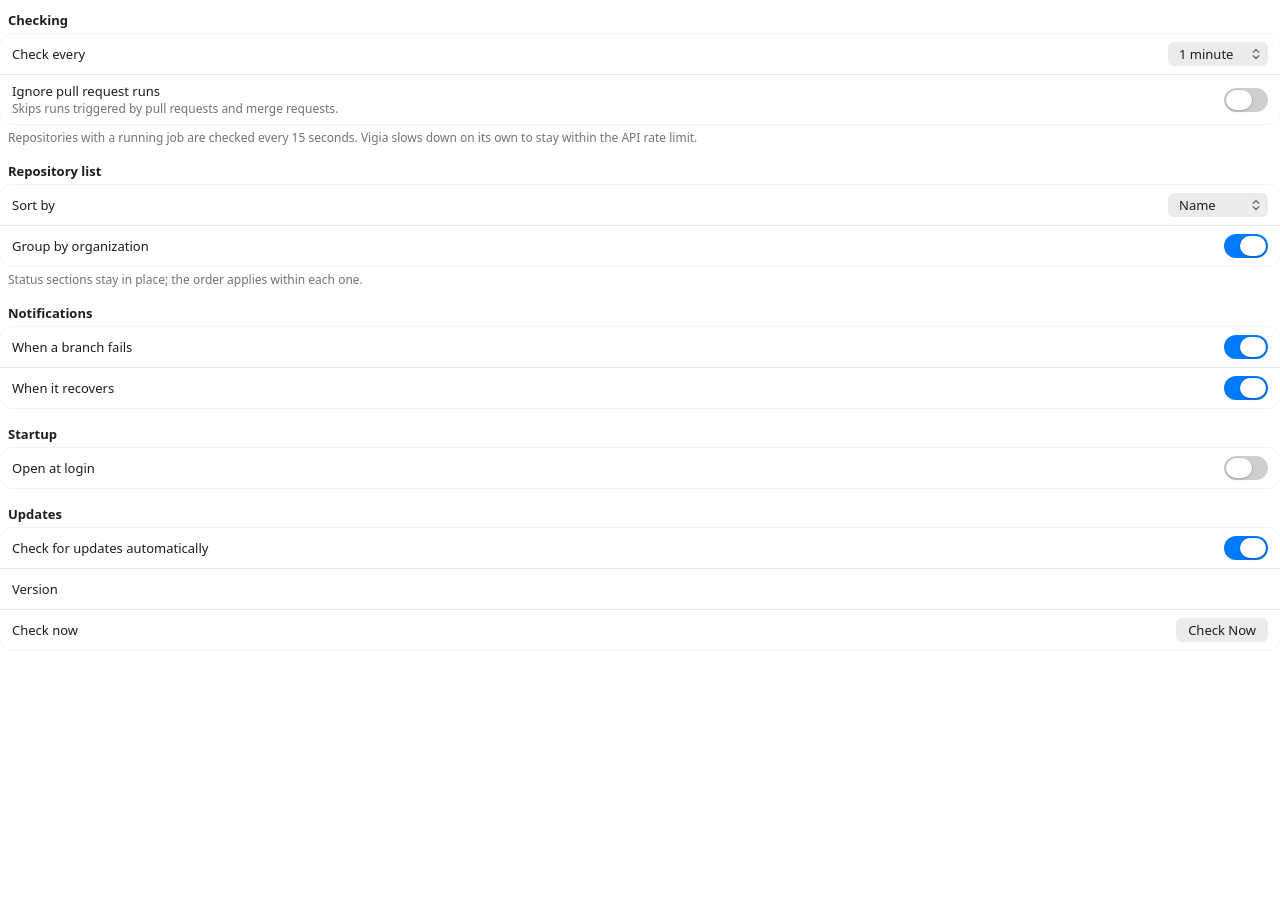
Test: general settings › Check Now › reports a failed install
The image size is (1280, 912).
Step 1. Click the button "Check Now" → x=1222, y=630, box left=1176, top=618, right=1268, bottom=642
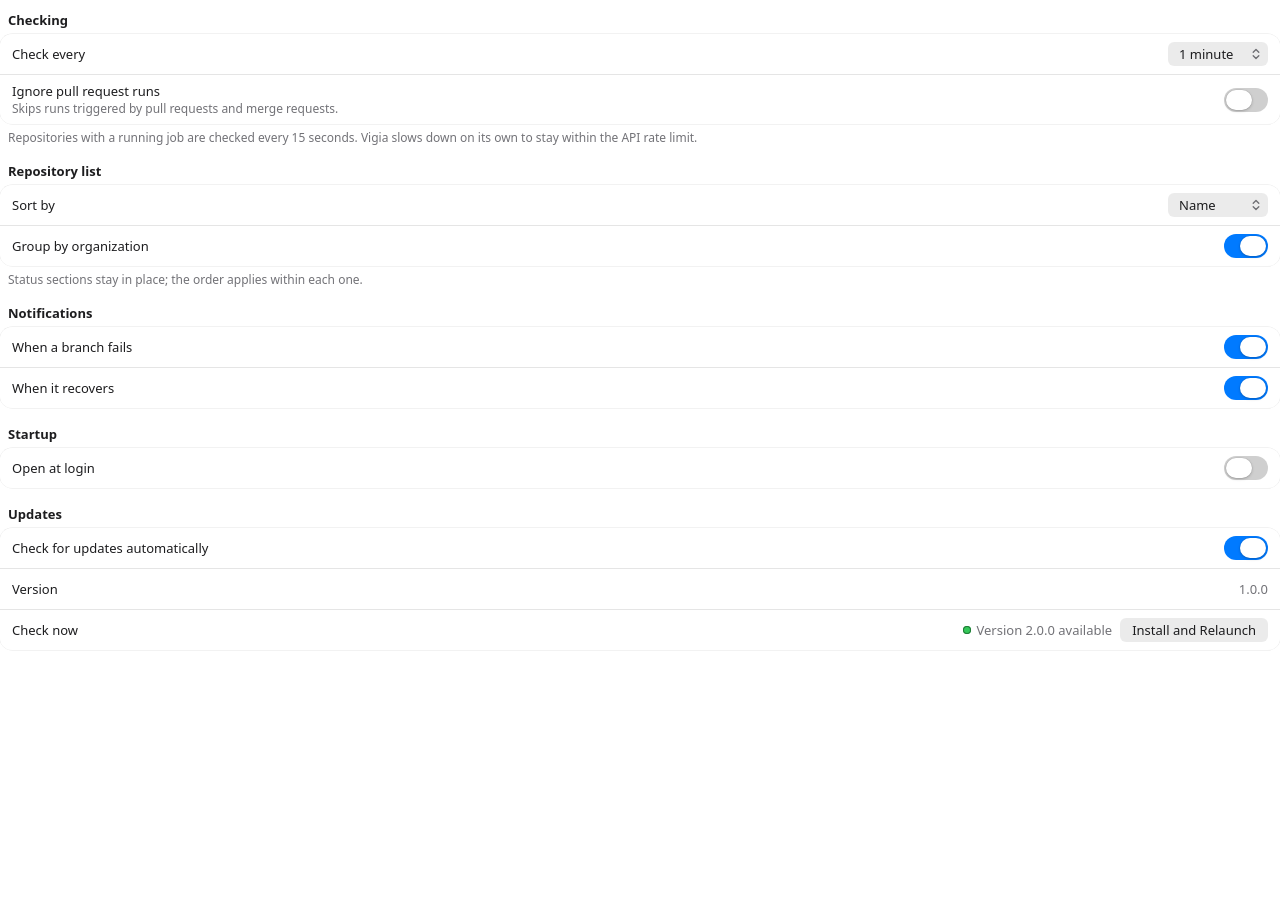
Expected: the text "Version 2.0.0 available" is shown, left=962, top=622, right=1112, bottom=638
Step 2. Click the button "Install and Relaunch" → x=1194, y=630, box left=1120, top=618, right=1268, bottom=642
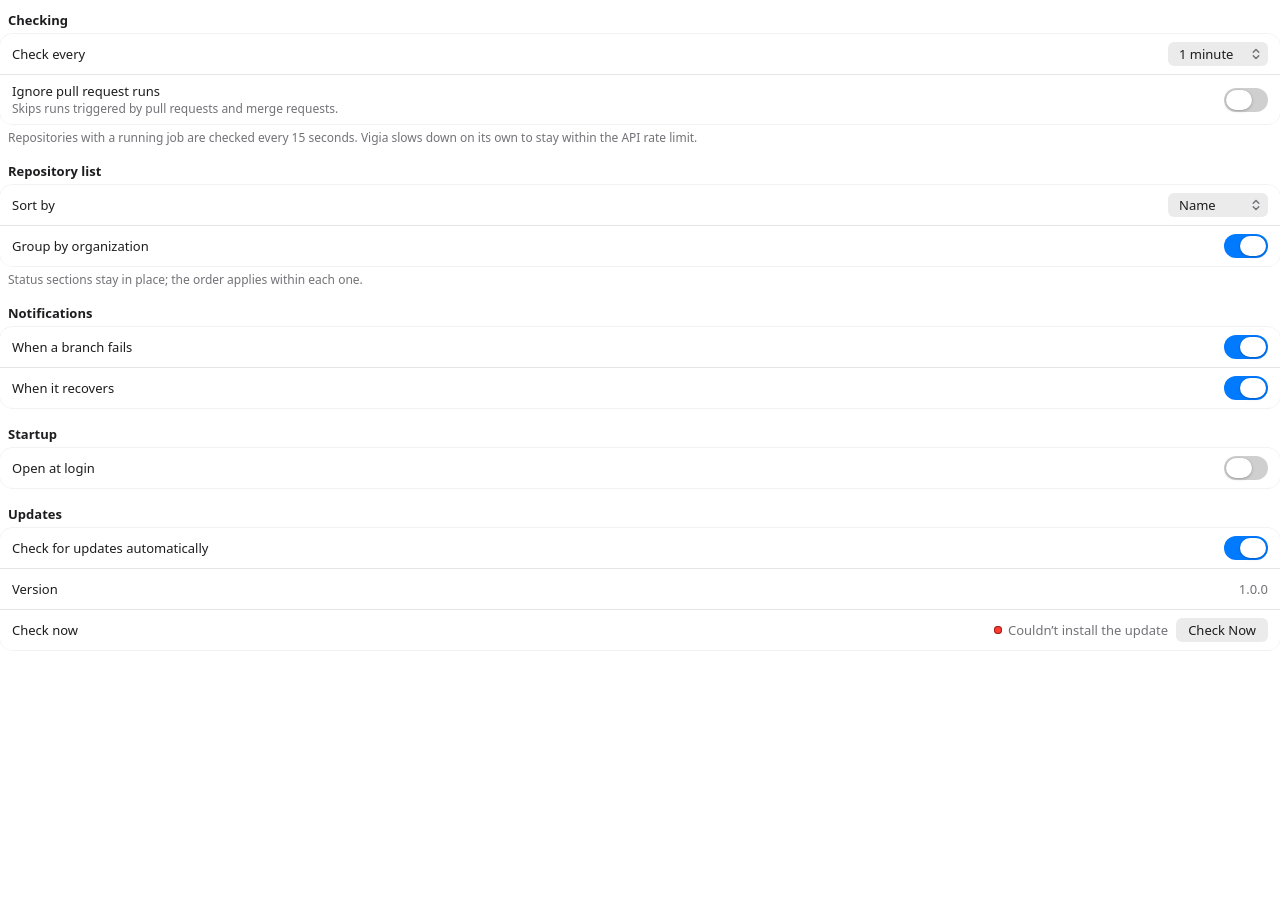
Expected: the text "Couldn’t install the update" is shown, left=994, top=622, right=1168, bottom=638
